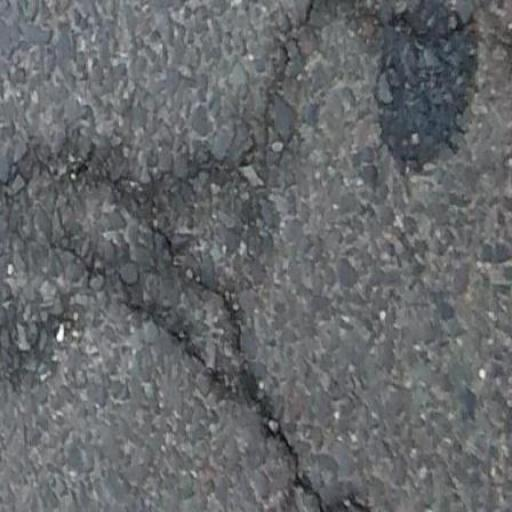spalling: (59, 218, 340, 512), (251, 4, 325, 144)
